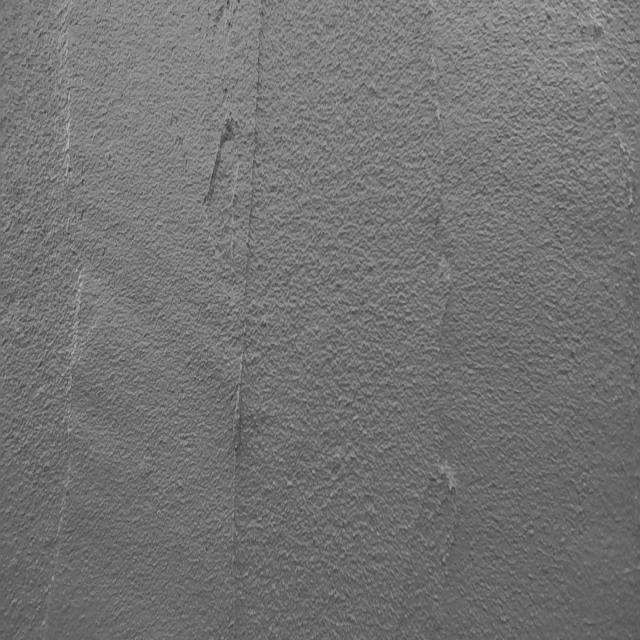trowels marks: (48, 41, 83, 637), (230, 1, 261, 586), (427, 32, 454, 463)
